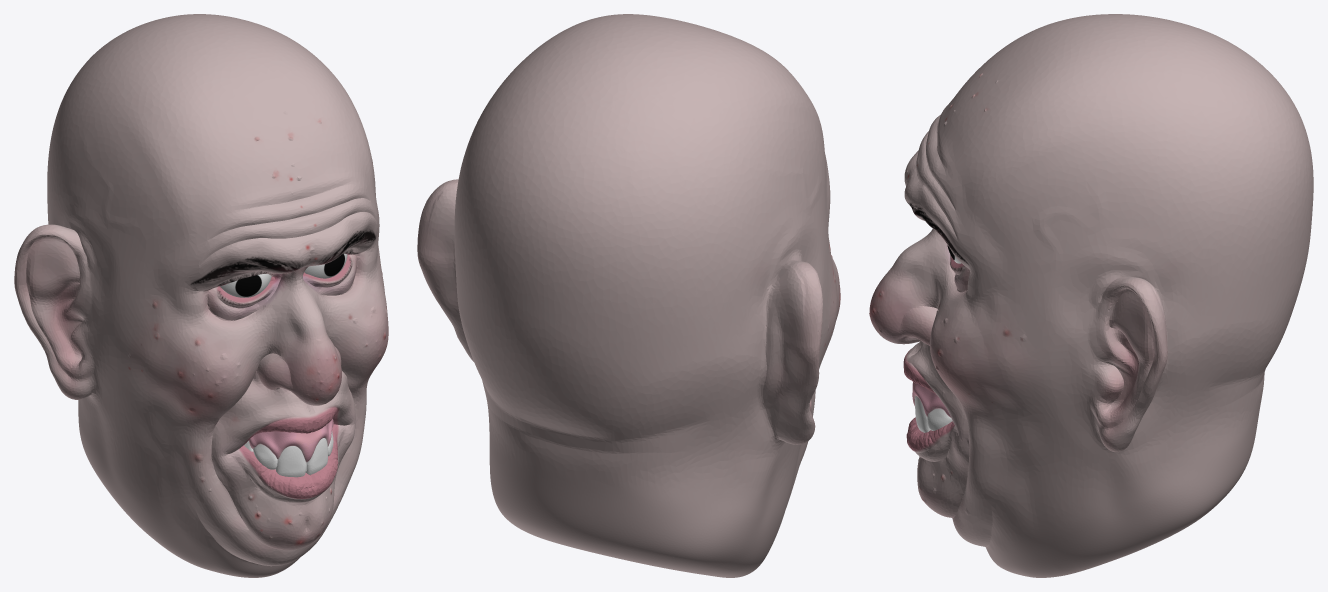
Rendered from Headman.glb.
3 renders of one model, left to right at view 1: azimuth 30°, elevation 25°; view 2: azimuth 150°, elevation 25°; view 3: azimuth 270°, elevation 25°, orthographic. The views are drawn at different scales.
Parts seen in each view (by area): view 1: Quad Sphere 6, Teefv 1, Quad Sphere; view 2: Quad Sphere 6; view 3: Quad Sphere 6, Teefv 1.
Boxes of the visible parts, <box> form: Quad Sphere 6: <box>14,14,388,577</box>; Teefv 1: <box>244,418,333,477</box>; Quad Sphere: <box>220,253,347,297</box>; Quad Sphere 6: <box>417,14,840,577</box>; Quad Sphere 6: <box>869,14,1313,577</box>; Teefv 1: <box>912,382,952,432</box>.
Size of the model in its own units: 1.07 by 1.44 by 1.09.
